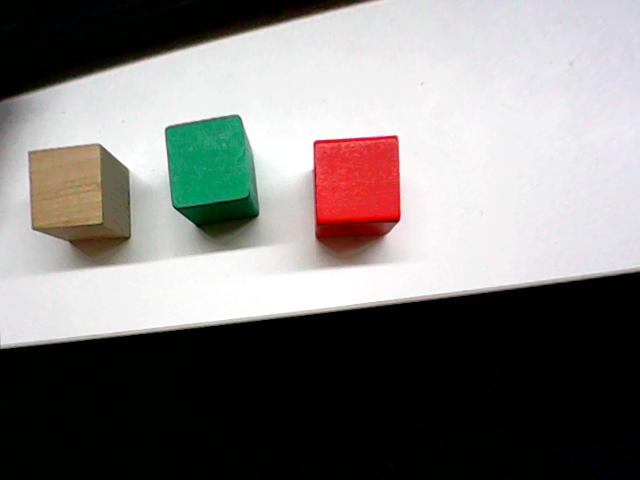green_box: (161, 110, 262, 229)
raw_box: (22, 139, 137, 245)
red_box: (309, 130, 404, 241)
